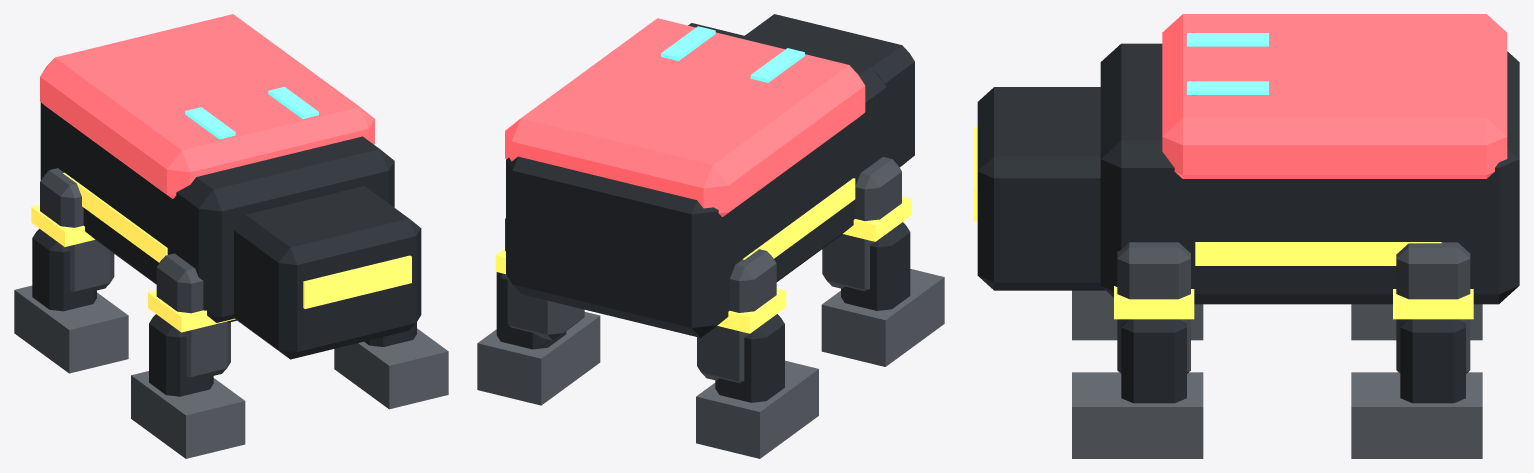
Rendered from Modle_Enemy_Crawler.fbx.
The picture shows the model from 3 angles, left to right: view 1: azimuth 30°, elevation 25°; view 2: azimuth 150°, elevation 25°; view 3: azimuth 270°, elevation 25°; orthographic projection. The views are drawn at different scales.
Parts seen in each view (by area): view 1: Modle_Enemy_Crawler; view 2: Modle_Enemy_Crawler; view 3: Modle_Enemy_Crawler.
Part boxes in pixels (x1,y1,x2,y2): Modle_Enemy_Crawler: (14,14,448,458); Modle_Enemy_Crawler: (477,14,944,458); Modle_Enemy_Crawler: (973,14,1519,458).
Size of the model in its own units: 0.884 by 0.861 by 1.33.
